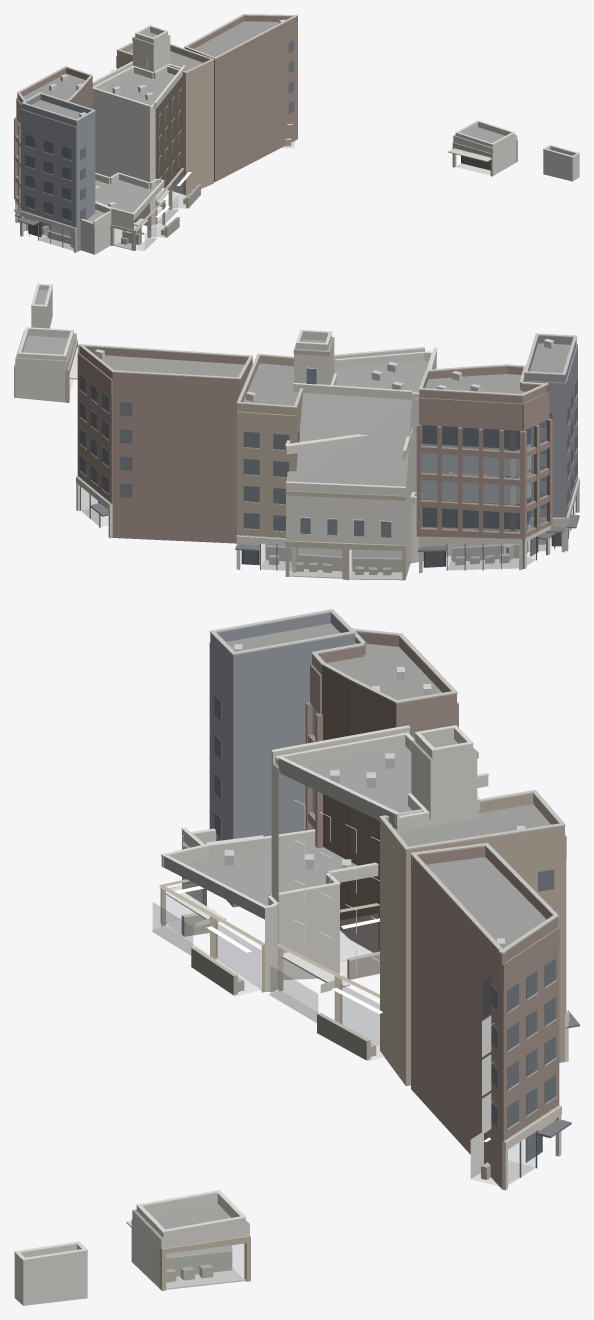
The model's file is d19-neighborhood-pack.glb.
3 renders of one model, top to bottom at view 1: azimuth 30°, elevation 25°; view 2: azimuth 150°, elevation 25°; view 3: azimuth 270°, elevation 25°, orthographic. The views are drawn at different scales.
Visible parts, largest first — view 1: INFERRED_ground.001, INFERRED_body.001; view 2: INFERRED_ground.001, INFERRED_body.001, INFERRED_facade.001; view 3: INFERRED_ground.001, INFERRED_body.001.
Part boxes in pixels (bbox=[...]): INFERRED_ground.001: bbox=[14, 14, 579, 254]; INFERRED_body.001: bbox=[17, 41, 294, 236]; INFERRED_ground.001: bbox=[14, 283, 579, 580]; INFERRED_body.001: bbox=[80, 375, 577, 567]; INFERRED_facade.001: bbox=[300, 368, 391, 537]; INFERRED_ground.001: bbox=[14, 609, 579, 1305]; INFERRED_body.001: bbox=[214, 697, 555, 1161].
Bounding box in the file's own units: 79.82 × 24.98 × 42.28.
Materials: 7 (2 with a texture image).
